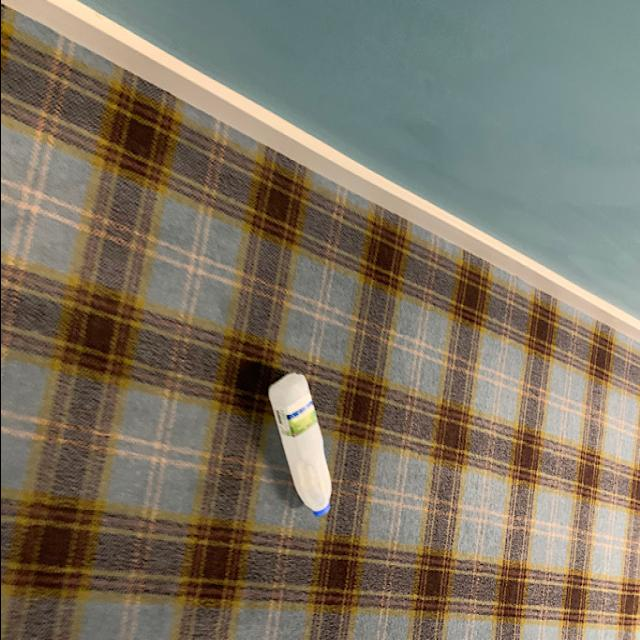litter: (266, 368, 329, 518)
